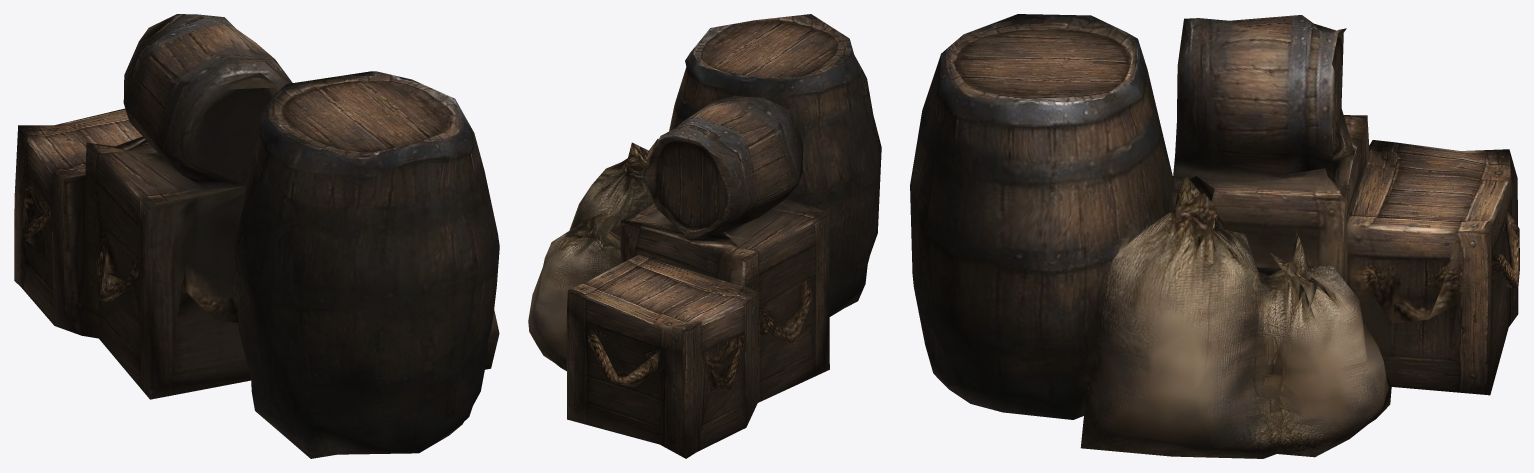
The model's file is goods.glb.
3 views of the same model, side by side, from view 1: azimuth 30°, elevation 25°; view 2: azimuth 150°, elevation 25°; view 3: azimuth 270°, elevation 25° (orthographic). The views are drawn at different scales.
Parts seen in each view (by area): view 1: tripo_node_b481a98d-422d-42ce-8921-9ffaf5570213; view 2: tripo_node_b481a98d-422d-42ce-8921-9ffaf5570213; view 3: tripo_node_b481a98d-422d-42ce-8921-9ffaf5570213.
Boxes of the visible parts, box(x1,y1,x2,y2) form: tripo_node_b481a98d-422d-42ce-8921-9ffaf5570213: box(14, 14, 499, 458); tripo_node_b481a98d-422d-42ce-8921-9ffaf5570213: box(528, 14, 881, 458); tripo_node_b481a98d-422d-42ce-8921-9ffaf5570213: box(910, 14, 1519, 458).
Size of the model in its own units: 0.6493 by 0.6014 by 1.
Materials: 1 (1 with a texture image).
